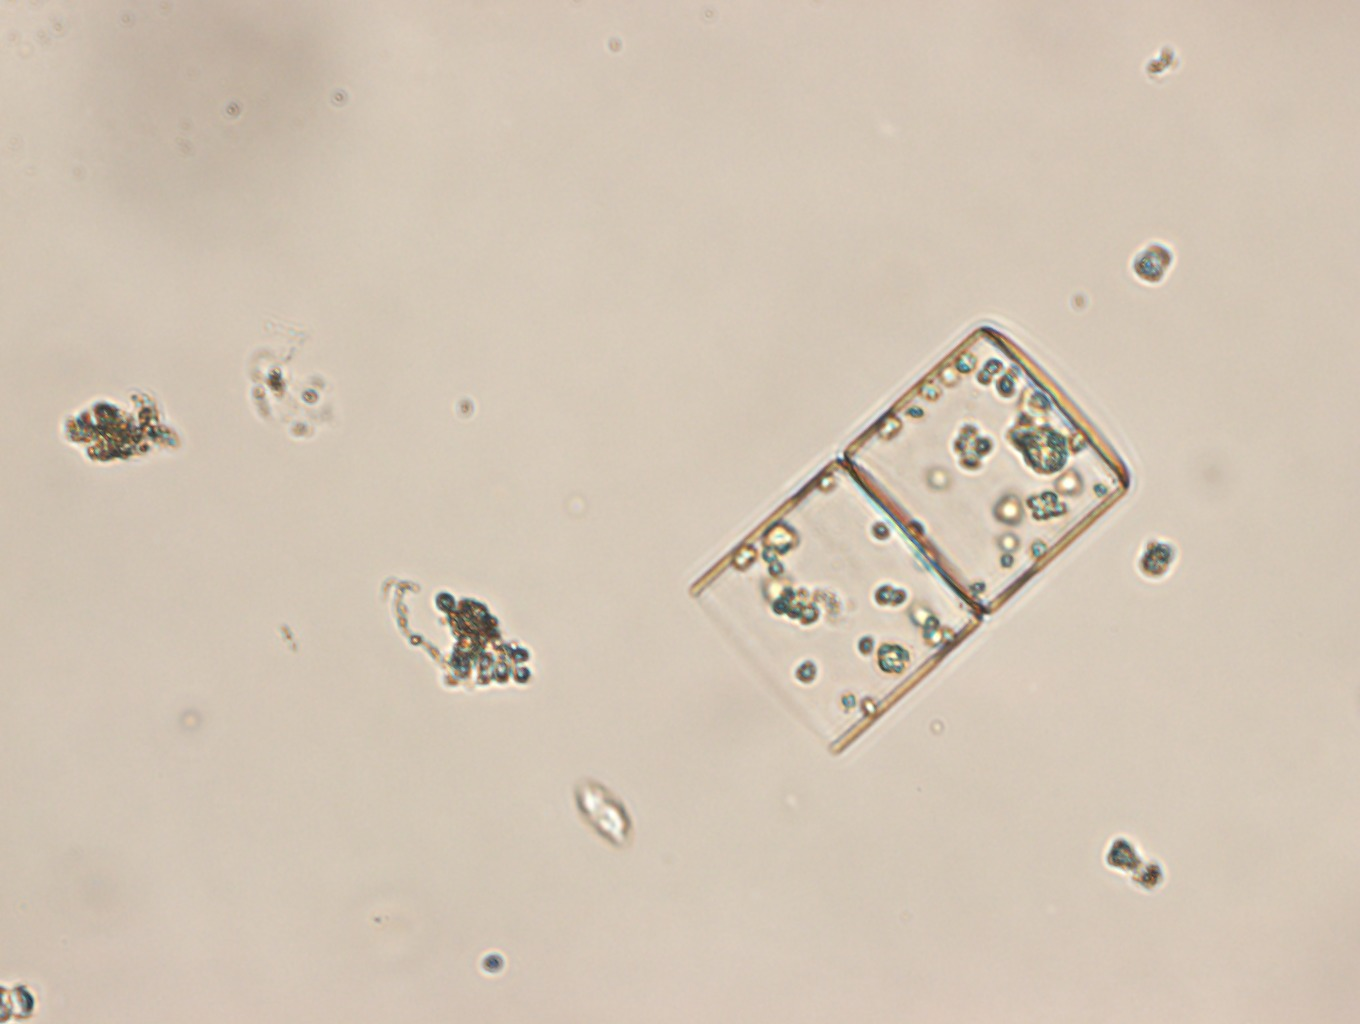guinardia flaccida: (685, 316, 1134, 756)
